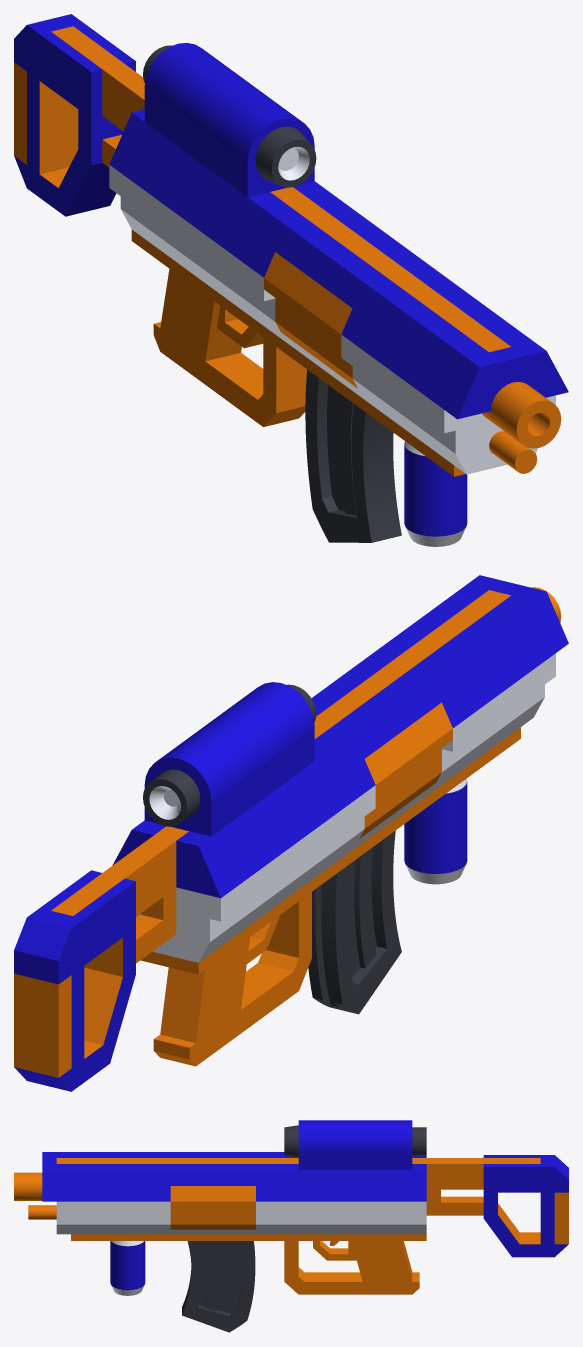
The model's file is Assault rifle 2.fbx.
3 views of the same model, one above another, from view 1: azimuth 30°, elevation 25°; view 2: azimuth 150°, elevation 25°; view 3: azimuth 270°, elevation 25° (orthographic). The views are drawn at different scales.
Parts seen in each view (by area): view 1: largeBlaster_handleGuard, largeBlaster_barrelAssault, largeBlaster_centerDetail, stock_tactical, scope_small, clip_banana, attachment_handle; view 2: largeBlaster_handleGuard, stock_tactical, largeBlaster_centerDetail, largeBlaster_barrelAssault, scope_small, clip_banana, attachment_handle; view 3: largeBlaster_handleGuard, largeBlaster_centerDetail, stock_tactical, largeBlaster_barrelAssault, scope_small, clip_banana, attachment_handle.
Part boxes in pixels (x1,y1,x2,y2): largeBlaster_handleGuard: (109,109,327,426); largeBlaster_barrelAssault: (367,285,568,476); largeBlaster_centerDetail: (238,190,455,428); stock_tactical: (14,14,144,216); scope_small: (143,42,316,197); clip_banana: (305,369,401,542); attachment_handle: (404,441,467,546); largeBlaster_handleGuard: (112,749,349,1066); stock_tactical: (14,835,176,1091); largeBlaster_centerDetail: (311,641,478,879); largeBlaster_barrelAssault: (390,575,568,785); scope_small: (143,682,316,836); clip_banana: (308,831,401,1014); attachment_handle: (404,779,467,884); largeBlaster_handleGuard: (284,1155,426,1294); largeBlaster_centerDetail: (142,1152,284,1240); stock_tactical: (426,1155,568,1257); largeBlaster_barrelAssault: (14,1152,141,1240); scope_small: (284,1120,426,1169); clip_banana: (182,1241,255,1332); attachment_handle: (110,1241,145,1295).
Size of the model in its own units: 5 by 16 by 39.
